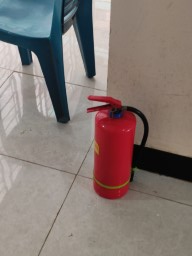fire_extinguisher: (71, 57, 150, 140)
